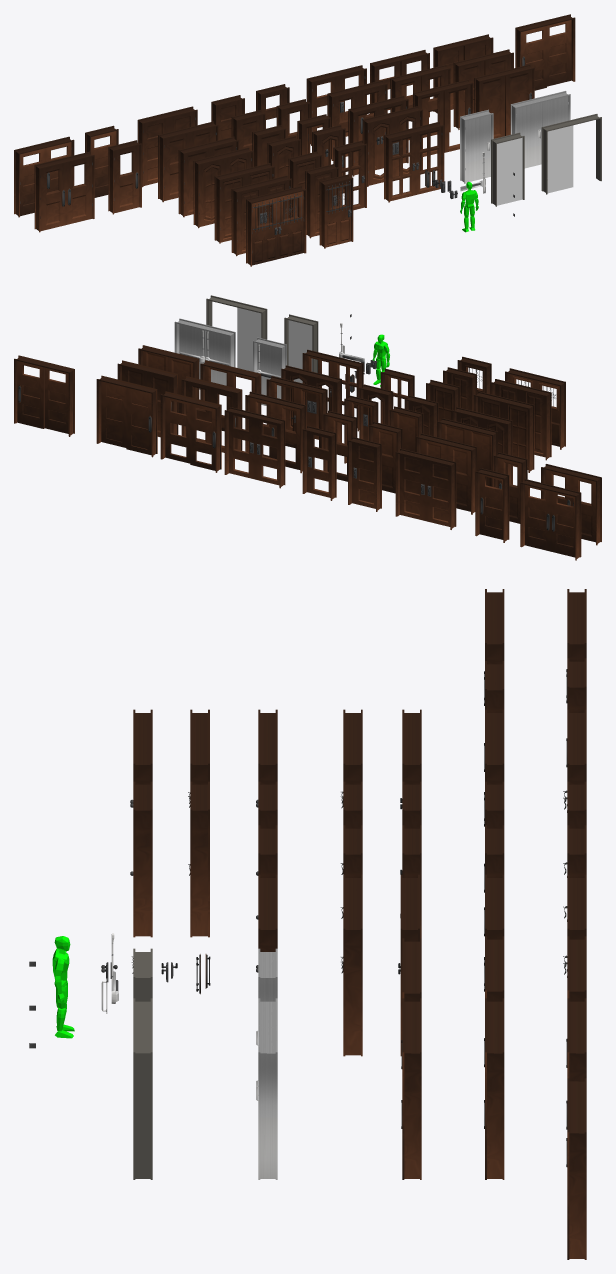
File: Models.fbx
3 renders of one model, top to bottom at view 1: azimuth 30°, elevation 25°; view 2: azimuth 150°, elevation 25°; view 3: azimuth 270°, elevation 25°, orthographic. The views are drawn at different scales.
Parts seen in each view (by area): view 1: Cube.023, Cube.033, Cube.132, Cube.123, Cube.147, Cube.154, Cube.048, Cube.076, Cube.002, Cube.022, Cube.104, Cube.086 (+83 smaller); view 2: Cube.116, Cube.154, Cube.052, Cube.051, Cube.082, Cube.028, Cube.021, Cube.031, Cube.074, Cube.155, Cube.036, Cube.023 (+78 smaller); view 3: single_jamb.027, single_jamb.034, single_jamb.024, single_jamb.006, single_jamb.013, single_jamb.014, single_jamb.001, single_jamb.011, single_jamb.015, single_jamb.002, single_jamb.023, single_jamb.032 (+28 smaller).
Part boxes in pixels (x1,y1,x2,y2): Cube.023: [547, 125, 573, 193]; Cube.033: [497, 137, 522, 205]; Cube.132: [465, 115, 490, 182]; Cube.123: [40, 163, 66, 230]; Cube.147: [66, 157, 92, 224]; Cube.154: [547, 20, 571, 86]; Cube.048: [277, 191, 303, 258]; Cube.076: [114, 145, 139, 213]; Cube.002: [325, 179, 350, 247]; Cube.022: [252, 197, 277, 265]; Cube.104: [516, 102, 541, 168]; Cube.086: [199, 159, 225, 226]; Cube.116: [400, 454, 426, 520]; Cube.154: [17, 361, 44, 428]; Cube.052: [101, 381, 126, 447]; Cube.051: [126, 387, 151, 455]; Cube.082: [426, 460, 450, 526]; Cube.028: [525, 485, 551, 551]; Cube.021: [352, 442, 375, 508]; Cube.031: [479, 474, 503, 539]; Cube.074: [551, 491, 575, 557]; Cube.155: [45, 367, 68, 433]; Cube.036: [229, 412, 255, 479]; Cube.023: [237, 307, 261, 371]; single_jamb.027: [258, 998, 277, 1179]; single_jamb.034: [567, 1078, 586, 1259]; single_jamb.024: [133, 998, 152, 1179]; single_jamb.006: [343, 874, 362, 1056]; single_jamb.013: [402, 998, 421, 1179]; single_jamb.014: [485, 998, 504, 1179]; single_jamb.001: [133, 781, 152, 937]; single_jamb.011: [190, 781, 209, 937]; single_jamb.015: [567, 998, 586, 1081]; single_jamb.002: [400, 874, 419, 1056]; single_jamb.023: [258, 874, 277, 951]; single_jamb.032: [485, 589, 504, 664].
Size of the model in its own units: 2089 by 229 by 906.
